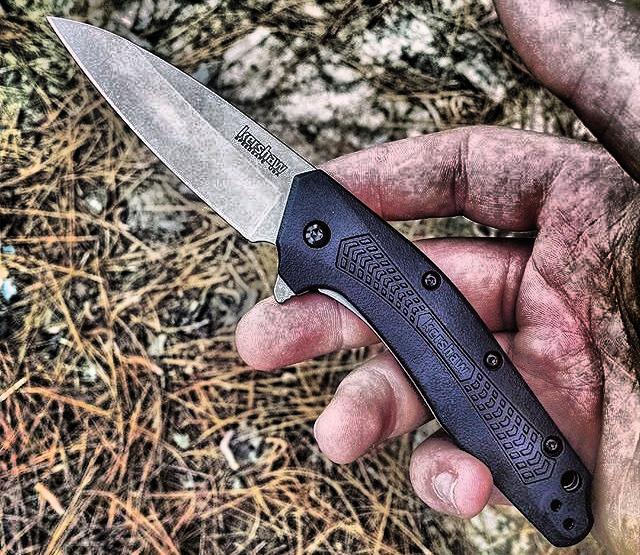knife: (36, 3, 598, 554)
